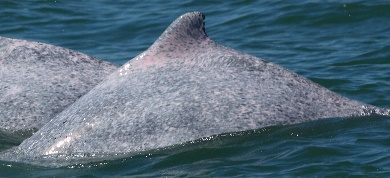fin: (21, 8, 380, 171)
